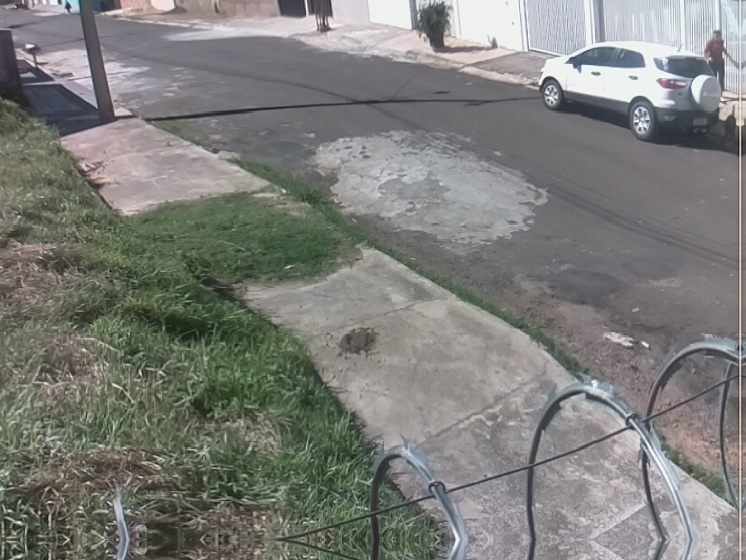person: (703, 30, 729, 100)
